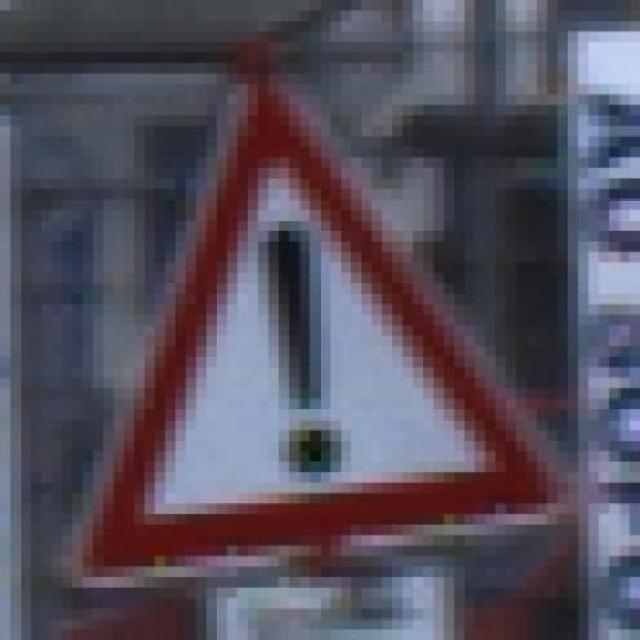Attention Please-: (41, 41, 568, 577)
